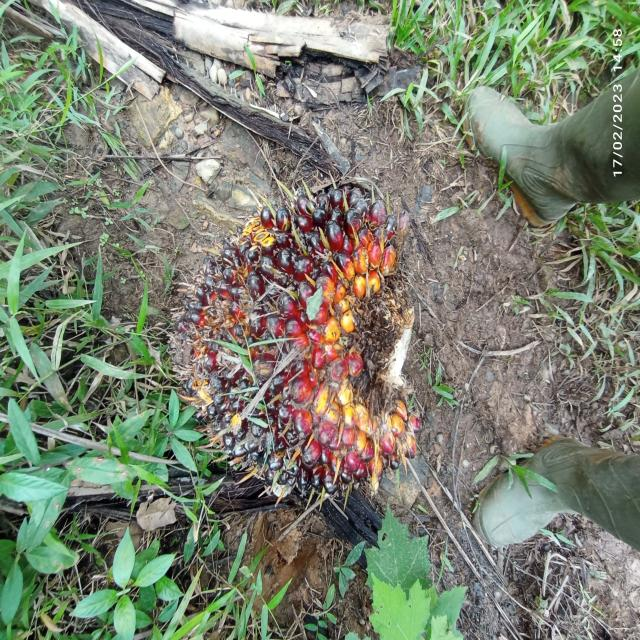fraksi 1: (118, 160, 460, 507)
